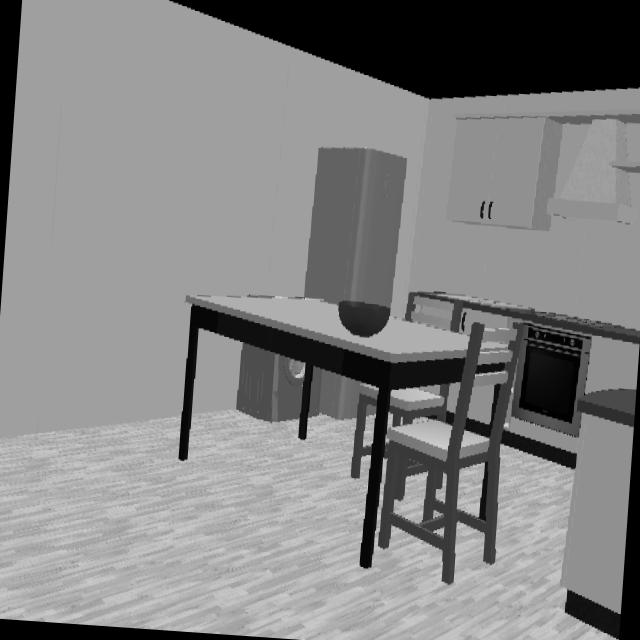cabinet: (444, 115, 563, 234), (565, 390, 636, 546)
chair: (384, 324, 509, 584)
countertop: (577, 386, 636, 428), (574, 321, 640, 343)
fridge: (304, 147, 408, 309), (318, 371, 372, 421)
oven: (512, 322, 590, 431)
sink: (417, 291, 534, 327)
table: (178, 297, 484, 584)
